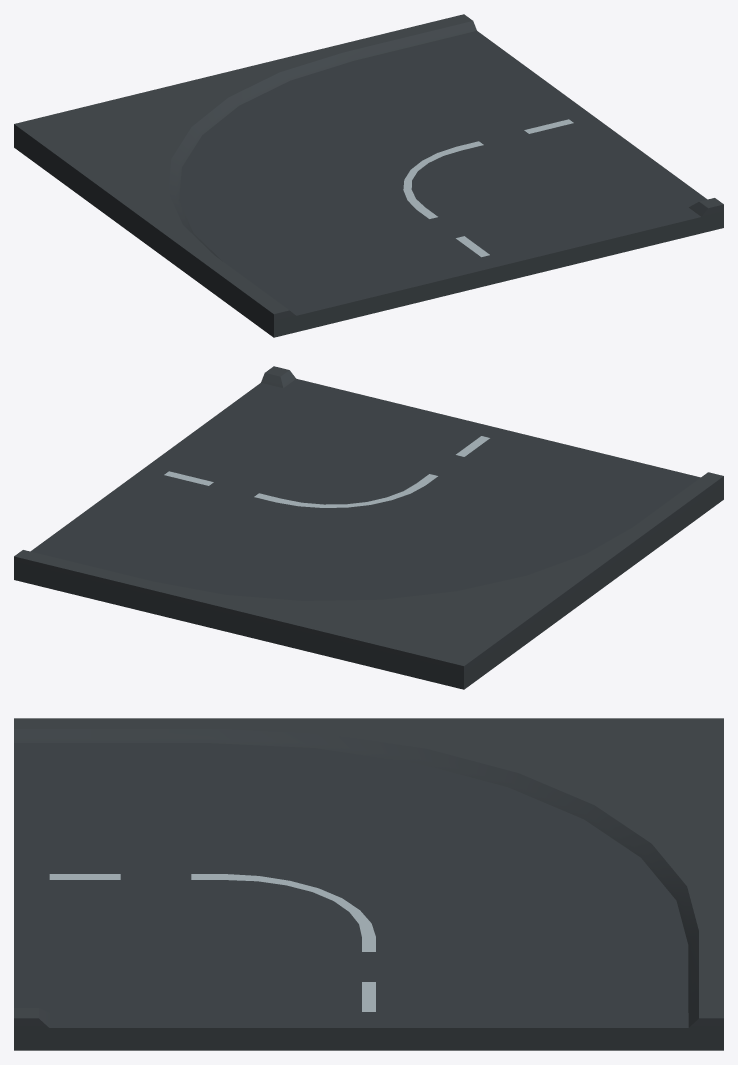
The model's file is road_corner_curved.obj.
3 views of the same model, one above another, from view 1: azimuth 30°, elevation 25°; view 2: azimuth 150°, elevation 25°; view 3: azimuth 270°, elevation 25° (orthographic). The views are drawn at different scales.
Visible parts, largest first — view 1: road_corner_curved_Cube.947; view 2: road_corner_curved_Cube.947; view 3: road_corner_curved_Cube.947.
Boxes of the visible parts, left/top/right/bottom form: road_corner_curved_Cube.947: left=14, top=14, right=723, bottom=337; road_corner_curved_Cube.947: left=14, top=366, right=723, bottom=689; road_corner_curved_Cube.947: left=14, top=718, right=723, bottom=1050.
Size of the model in its own units: 2 by 0.1 by 2.
